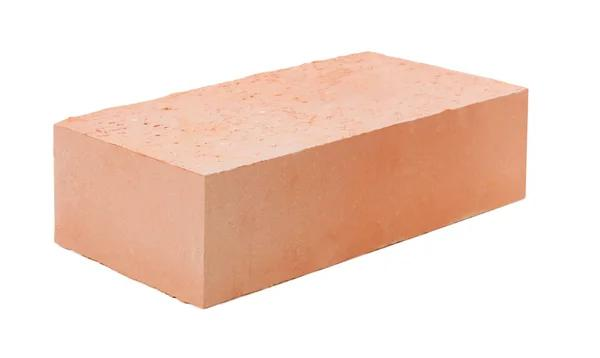Bricks: (52, 52, 531, 310)
